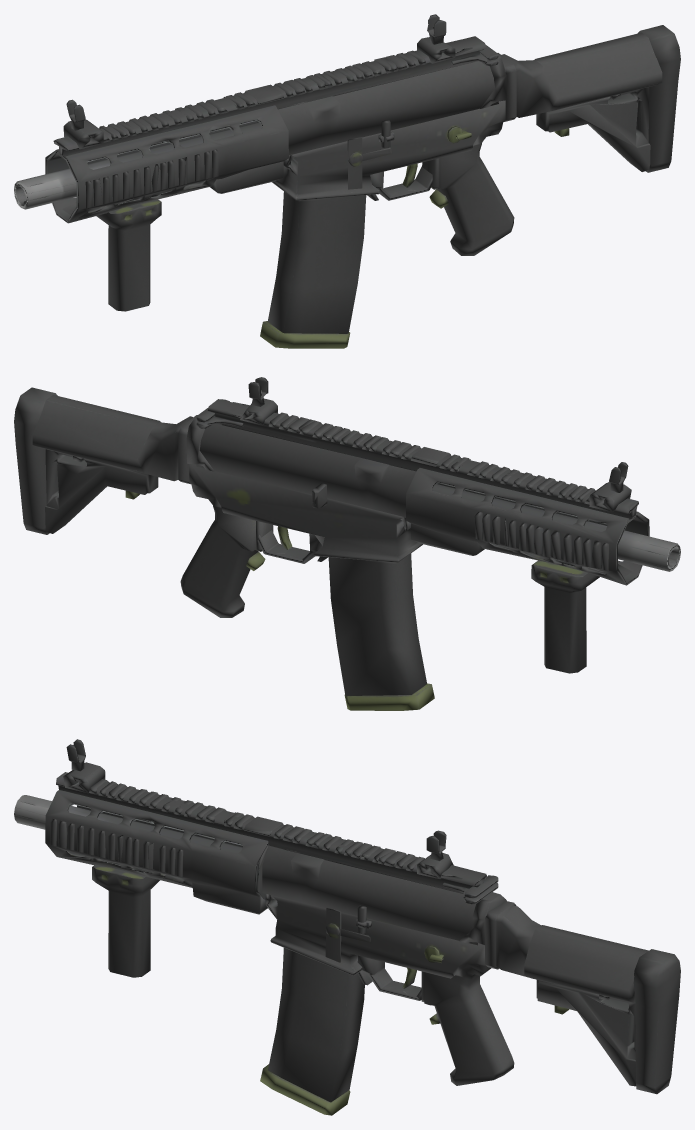
The model's file is ar_tundra.glb.
The picture shows the model from 3 angles, top to bottom: view 1: azimuth 30°, elevation 25°; view 2: azimuth 150°, elevation 25°; view 3: azimuth 330°, elevation 25°; orthographic projection.
Size of the model in its own units: 0.9575 by 0.4277 by 0.0996.
1 material, 1 textured.
